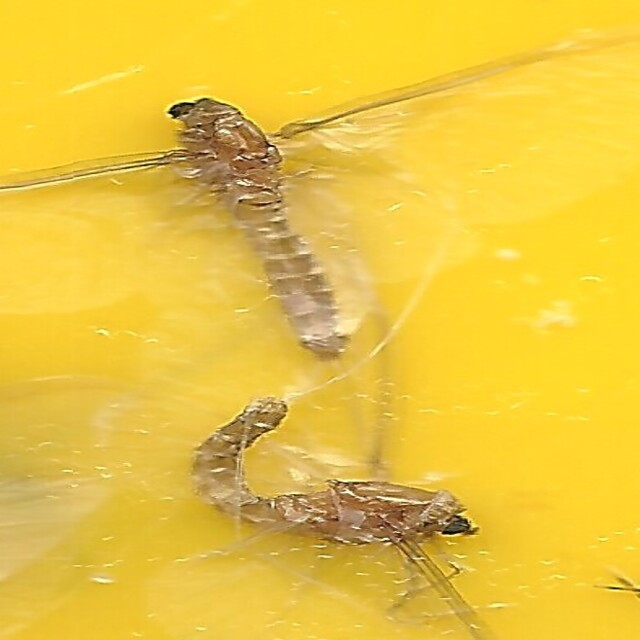Ephemeroptera: (162, 97, 349, 363), (187, 392, 478, 543)
